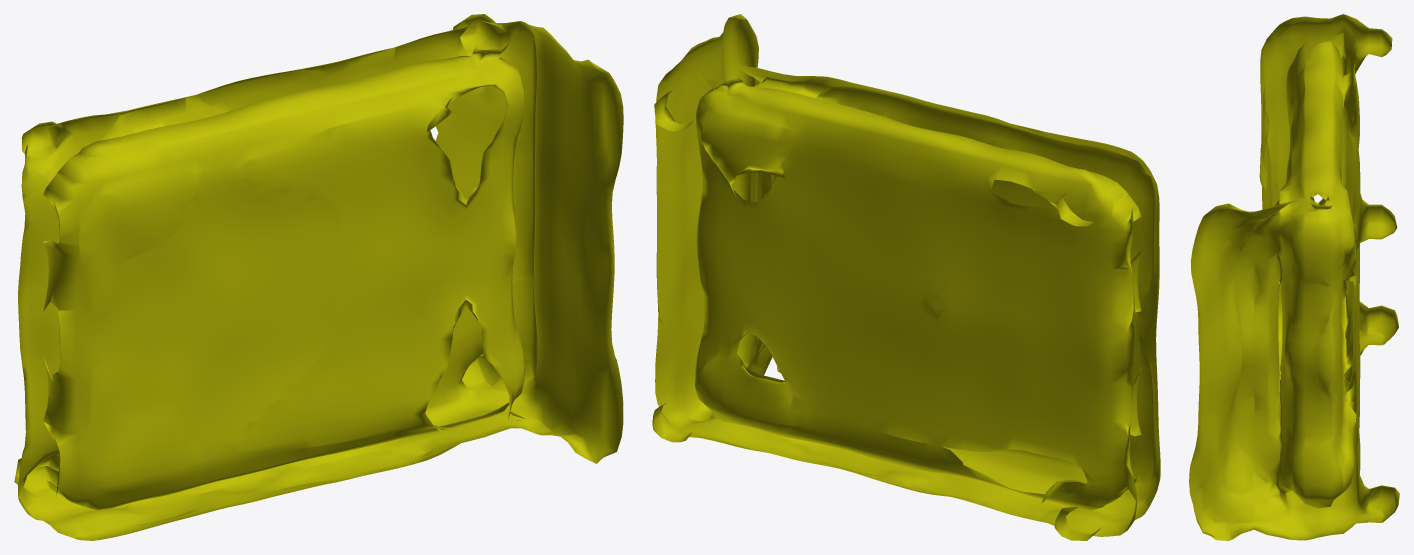
3 views of the same model, side by side, from view 1: azimuth 30°, elevation 25°; view 2: azimuth 150°, elevation 25°; view 3: azimuth 270°, elevation 25° (orthographic). The views are drawn at different scales.
Visible parts, largest first — view 1: world; view 2: world; view 3: world.
Part boxes in pixels (x1,y1,x2,y2): world: (14,14,623,540); world: (652,14,1160,540); world: (1189,14,1399,540).
Bounding box in the file's own units: 39.83 × 29.24 × 16.52.
